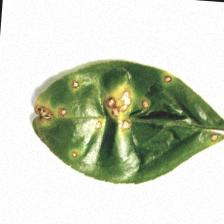canker: (26, 70, 223, 157)
